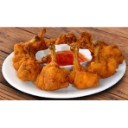chicken_lollipop: (68, 41, 97, 86), (41, 43, 68, 91), (10, 35, 40, 68), (90, 37, 115, 76)
